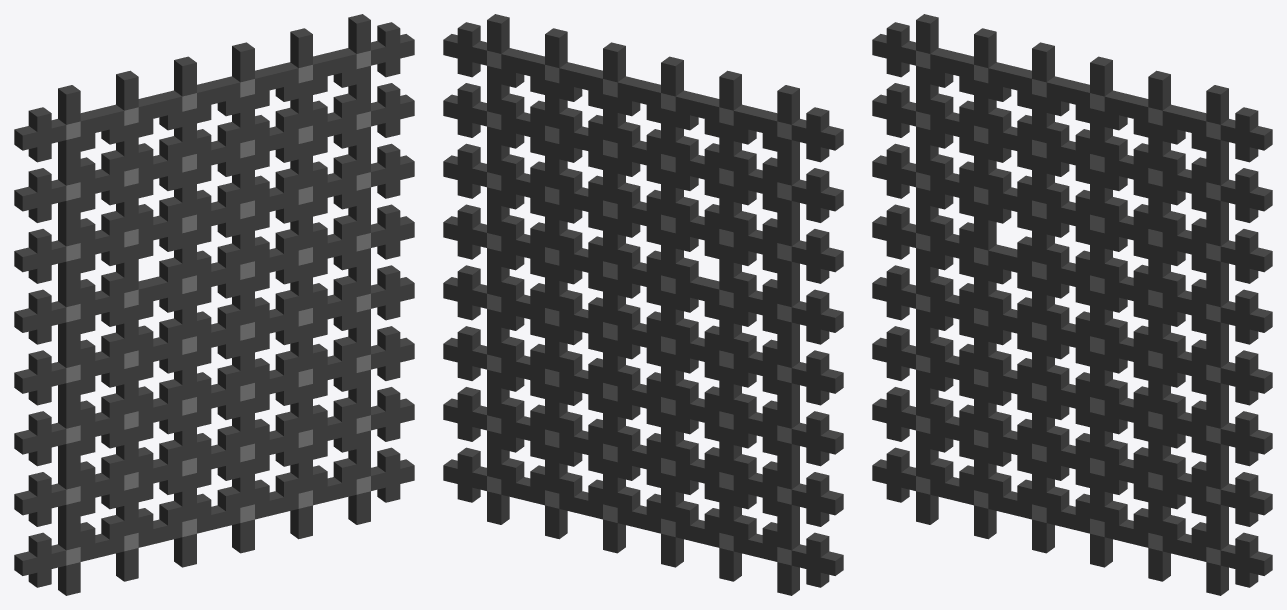
Rendered from Prison-2.obj.
The picture shows the model from 3 angles, left to right: view 1: azimuth 30°, elevation 25°; view 2: azimuth 150°, elevation 25°; view 3: azimuth 330°, elevation 25°; orthographic projection.
Size of the model in its own units: 2.7 by 3.3 by 0.1.
1 material, 1 textured.
